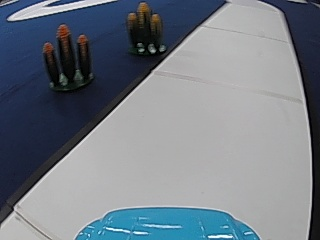corn: (44, 24, 94, 92), (126, 1, 165, 56)
